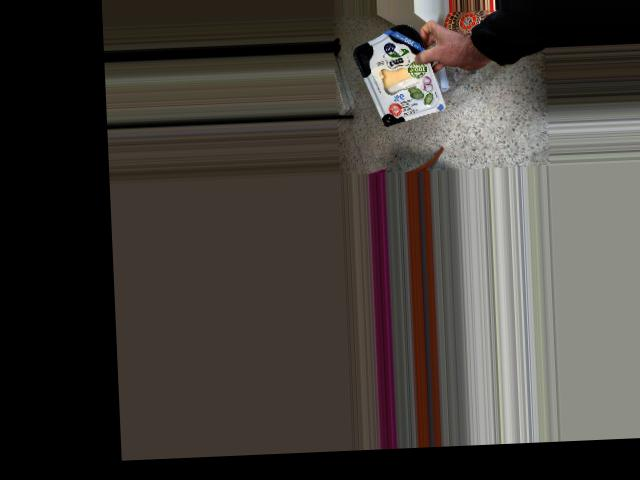cheese: (366, 27, 437, 125)
